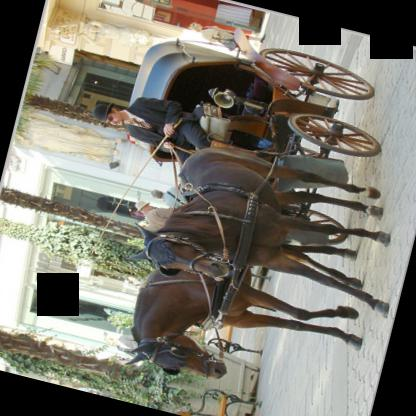handbag: (213, 36, 238, 51), (166, 188, 184, 206)
